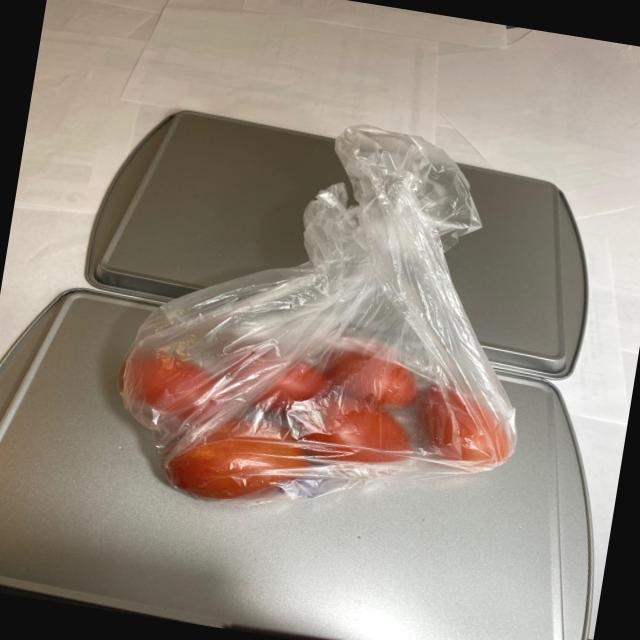tomato: (98, 314, 530, 547)
